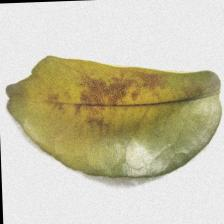black spot: (28, 61, 167, 138)
